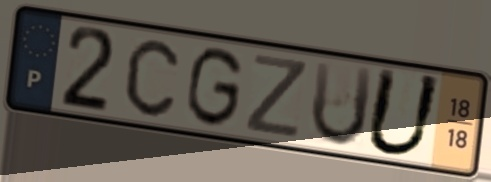2: (56, 23, 118, 117)
C: (123, 36, 182, 120)
G: (183, 44, 247, 131)
U: (361, 64, 447, 160), (307, 57, 377, 150)
Z: (242, 50, 313, 142)
